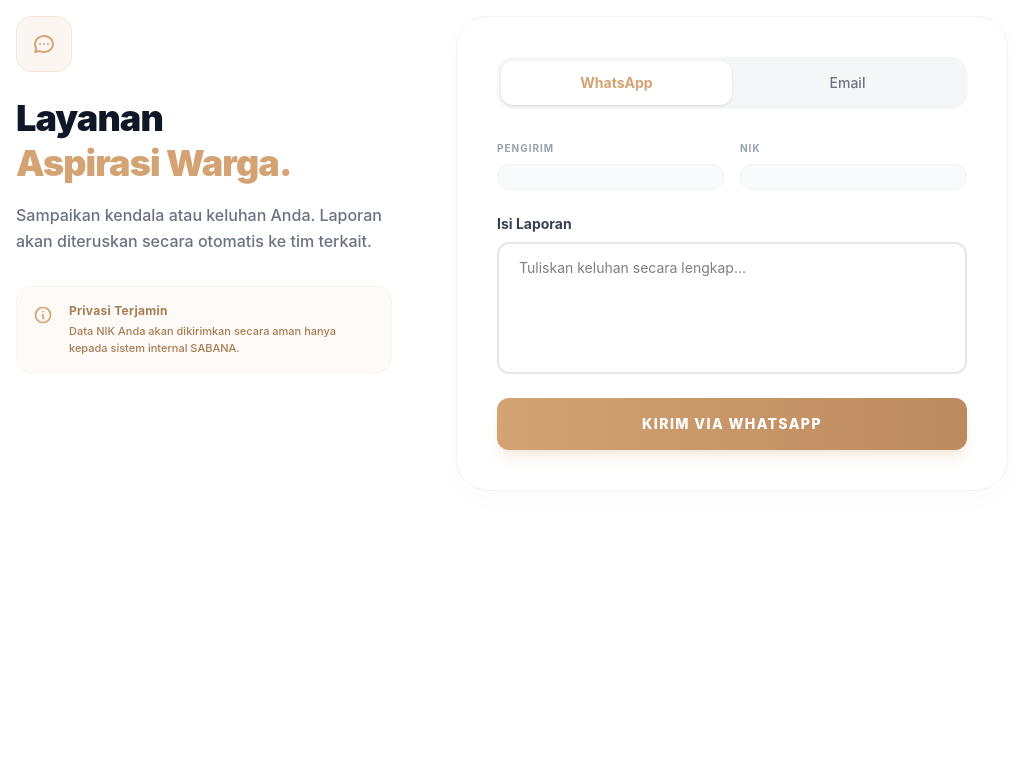
Report.vue - Professional QA Test Suite › Submit Email › [SUB-EM-02] Error network Email menampilkan pesan default
The width and height of the screenshot is (1025, 778).
Click the button "Email" at (848, 83), box [732,61,963,105]
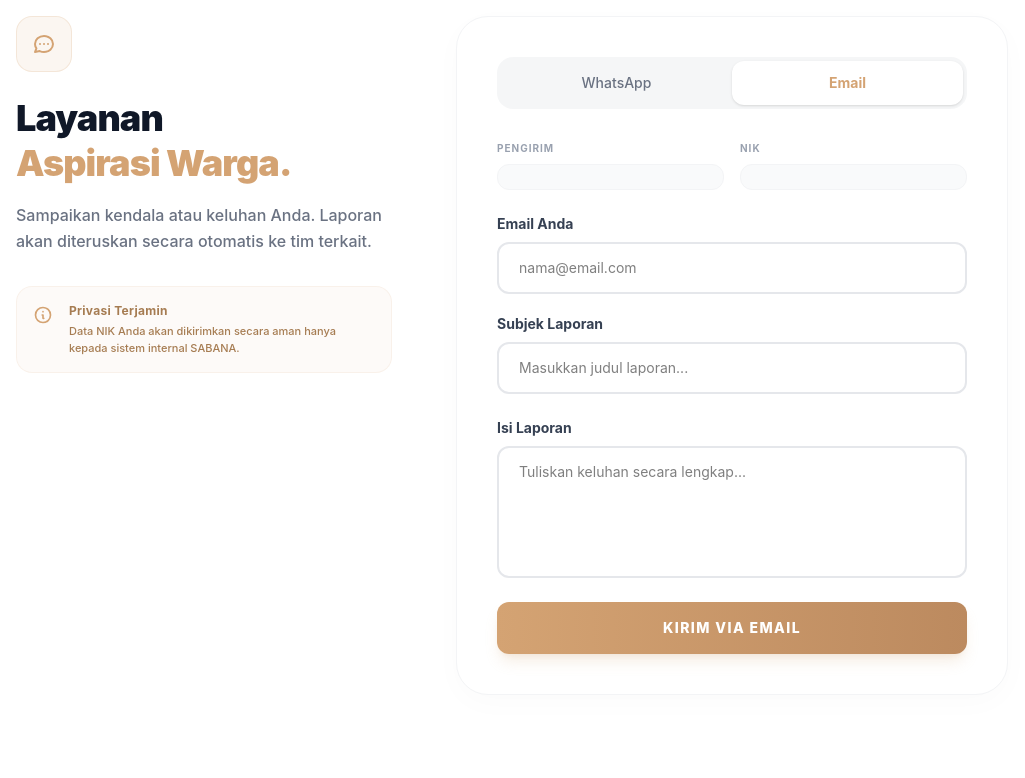
Type "warga@email.com" into the field with placeholder "nama@email.com" at (732, 268), box [497,242,967,294]
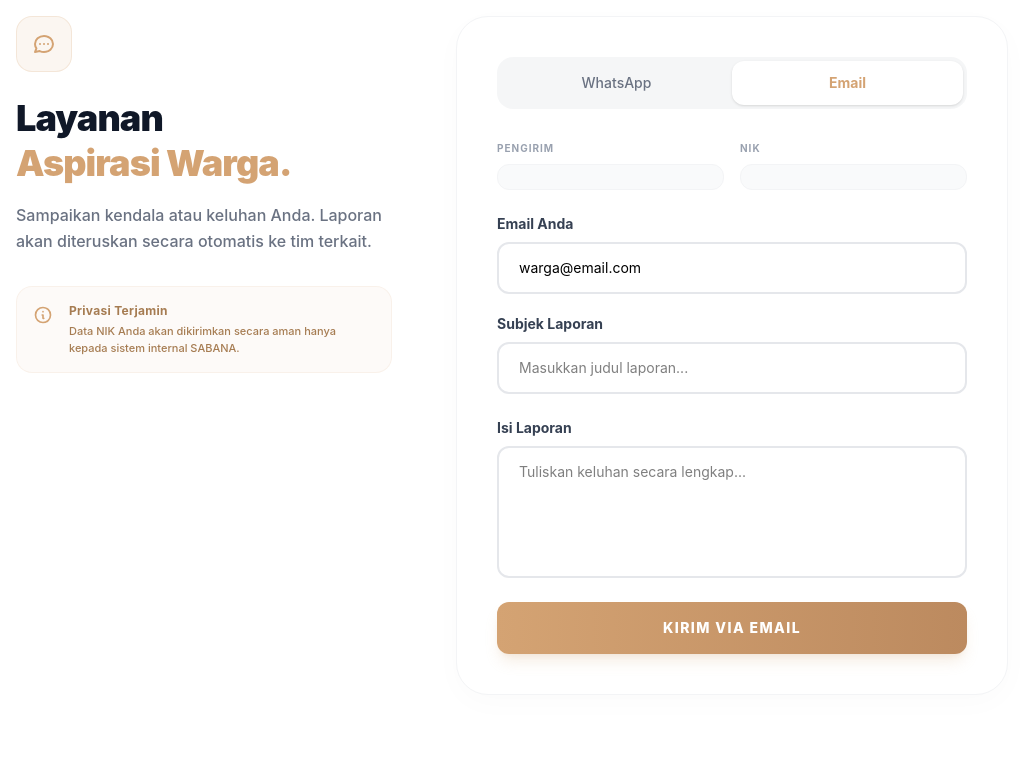
Type "Subjek Valid" into the field with placeholder "Masukkan judul laporan..." at (732, 368), box [497,342,967,394]
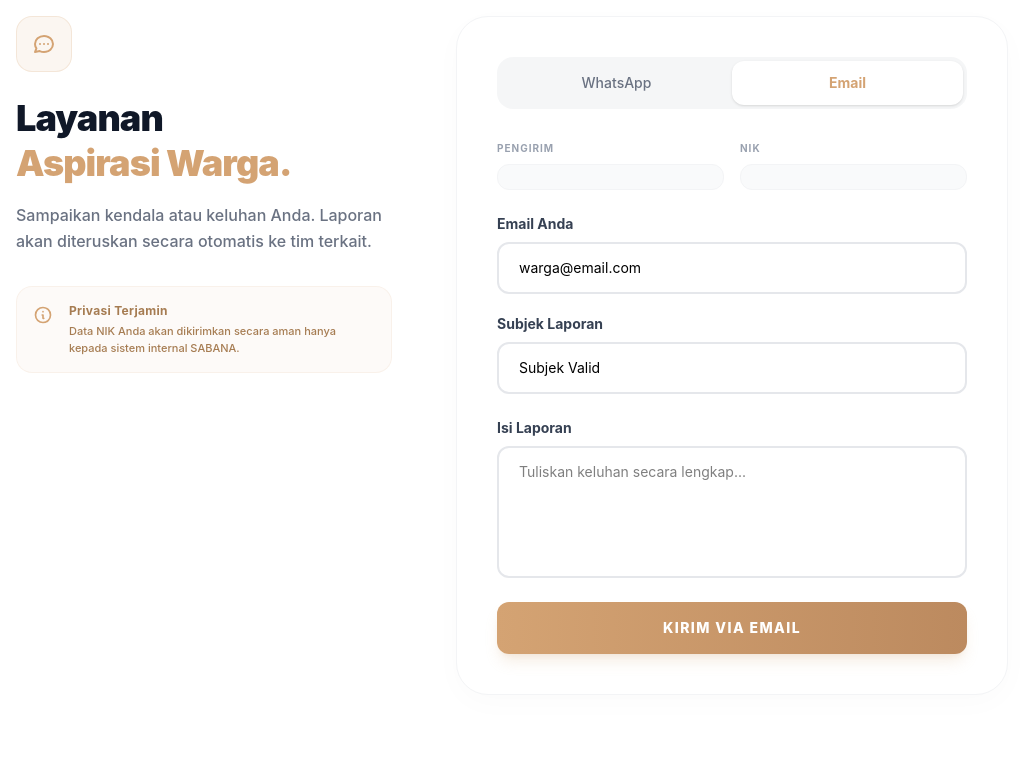
Type "Pesan yang cukup panjang untuk validasi" into the text box with placeholder "Tuliskan keluhan secara lengkap..." at (732, 512), box [497,446,967,578]
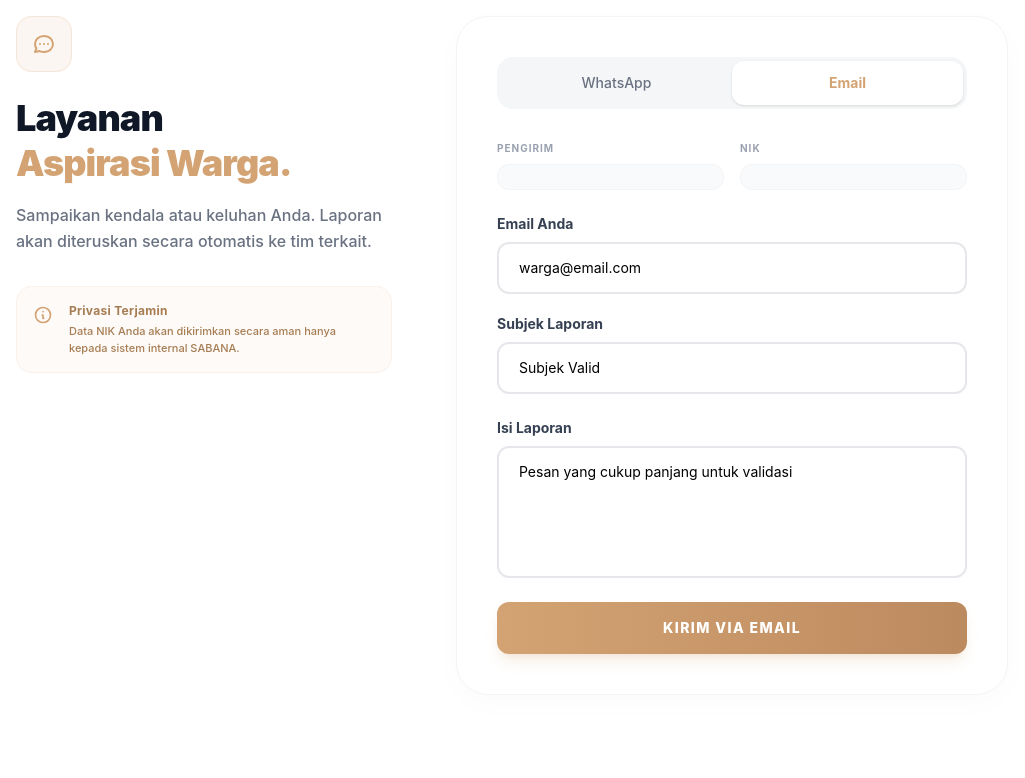
Submit the form, box [497,141,967,654]
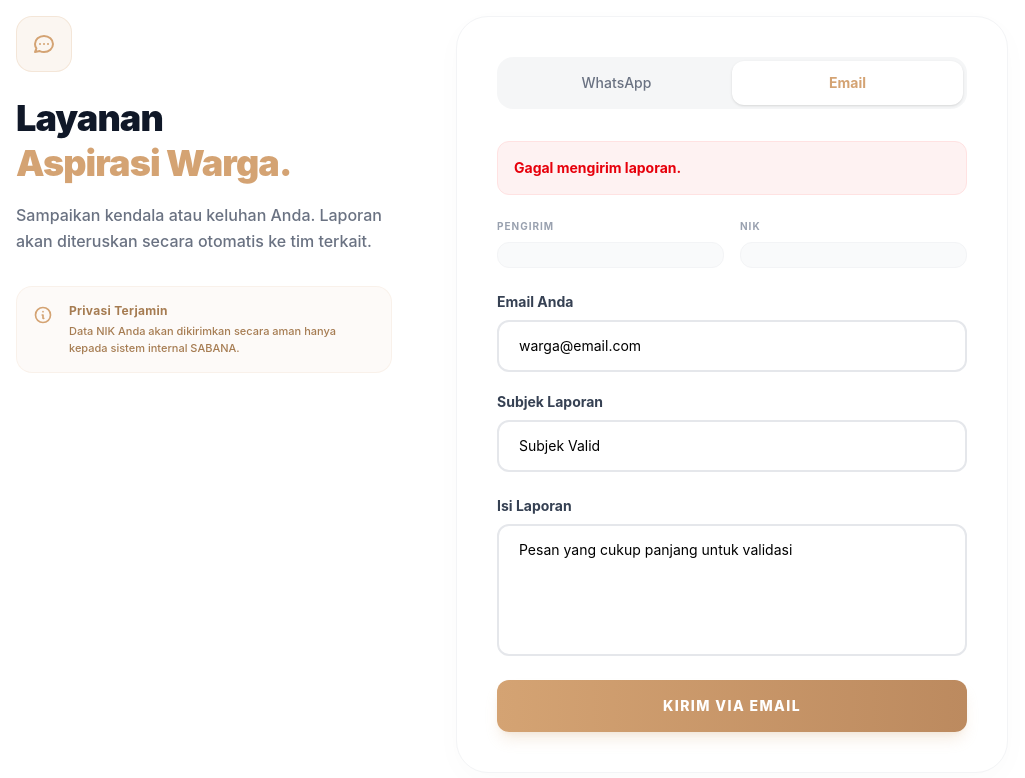
Expected: the text "Gagal mengirim laporan." is shown, [497,141,967,195]
